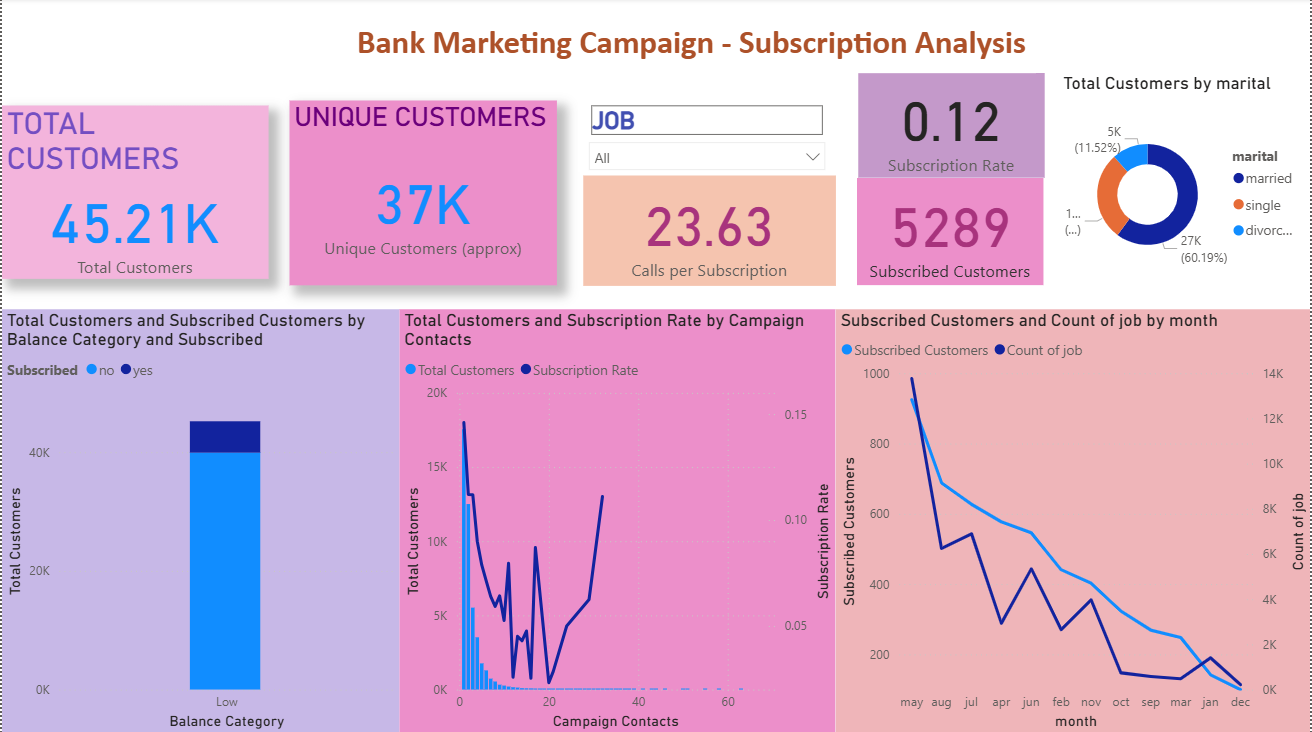

Layout of this report page (visuals, bound fields, positions):
{"tool":"powerbi","page":{"name":"Marketing-Conversion-Dashboard.pbix","canvas":[1280,720],"ordinal":0},"visuals":[{"type":"card","title":"TOTAL CUSTOMERS","fields":{"Values":["Bank.Total Customers"]},"box":[0,105.2,260.5,170],"z":0},{"type":"card","title":"UNIQUE CUSTOMERS","fields":{"Values":["Bank.Unique Customers (approx)"]},"box":[281.3,100.3,261.7,181],"z":1000},{"type":"card","fields":{"Values":["Bank.Subscription Rate"]},"box":[837.6,73.4,182.2,102.7],"z":2000},{"type":"card","fields":{"Values":["Bank.Subscribed Customers"]},"box":[836.4,176.1,182.2,105.2],"z":3000},{"type":"lineStackedColumnComboChart","fields":{"Category":["Bank.Balance Category"],"Y":["Bank.Total Customers"],"Series":["Bank.Subscribed"]},"box":[0,304.5,388.9,415.8],"z":4000},{"type":"lineStackedColumnComboChart","fields":{"Category":["Bank.Campaign Contacts"],"Y":["Bank.Total Customers"],"Y2":["Bank.Subscription Rate"]},"box":[388.9,304.5,426.8,415.8],"z":5000},{"type":"card","fields":{"Values":["Bank.Calls per Subscription"]},"box":[568.6,173.6,247,107.6],"z":6000},{"type":"slicer","fields":{"Values":["Bank.job"]},"box":[563.7,100.3,251.9,69.7],"z":8000},{"type":"lineChart","fields":{"Category":["Bank.month"],"Y":["Bank.Subscribed Customers"],"Y2":["CountNonNull(Bank.job)"]},"box":[815.6,304.5,464.7,415.8],"z":9000},{"type":"donutChart","fields":{"Category":["Bank.marital"],"Y":["Bank.Total Customers"]},"box":[1033.3,73.4,247,218.9],"z":10000},{"type":"textbox","box":[342.4,18.3,668.9,55],"z":10001}]}

Visuals, with their boxes in screenshot pixels (x1, y1, x2, y2), scaled from the page's 1280x720 canvas onto the 1312x732 screenshot:
"TOTAL CUSTOMERS" card: (0,107,267,280)
"UNIQUE CUSTOMERS" card: (288,102,557,286)
card - Bank.Subscription Rate: (859,75,1045,179)
card - Bank.Subscribed Customers: (857,179,1044,286)
lineStackedColumnComboChart - Bank.Balance Category x Bank.Total Customers: (0,310,399,731)
lineStackedColumnComboChart - Bank.Campaign Contacts x Bank.Total Customers: (399,310,836,731)
card - Bank.Calls per Subscription: (583,176,836,286)
slicer - Bank.job: (578,102,836,173)
lineChart - Bank.month x Bank.Subscribed Customers: (836,310,1311,731)
donutChart - Bank.marital x Bank.Total Customers: (1059,75,1311,297)
textbox: (351,19,1037,75)
